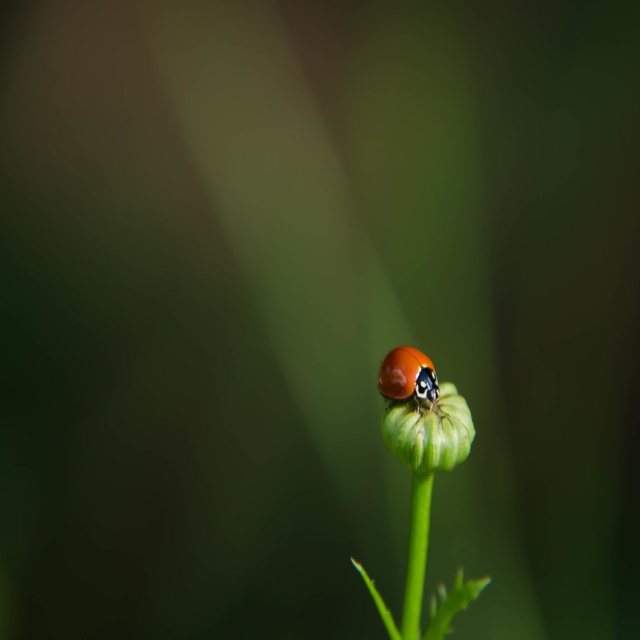Ladybug: (378, 347, 439, 417)
